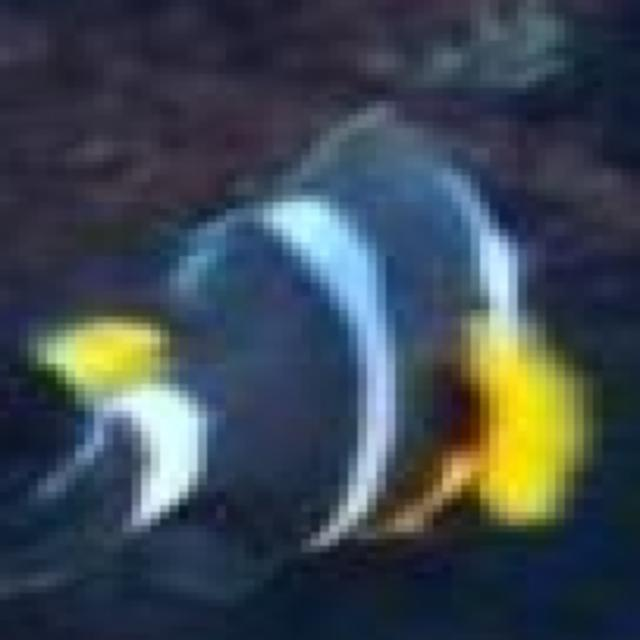fish: (9, 6, 639, 640)
